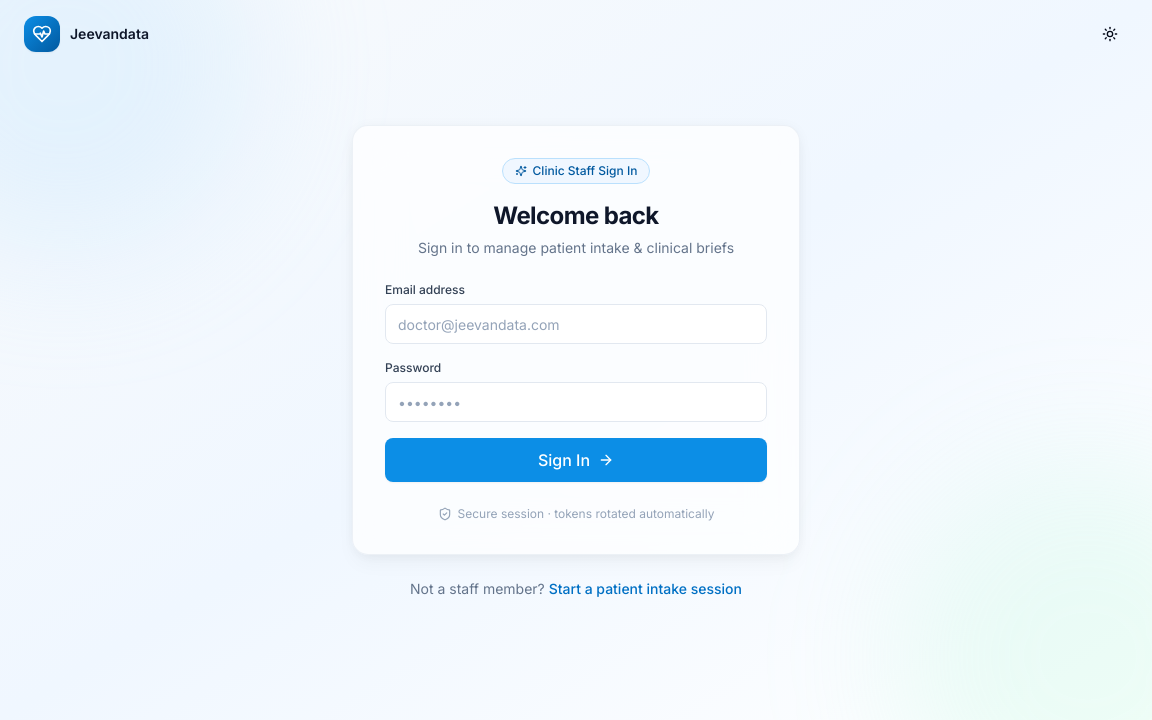
Test: LoginPage › should show validation errors for empty/invalid input
Type "not-an-email" into the field labelled "Email address" at (576, 324), box [385,304,767,344]
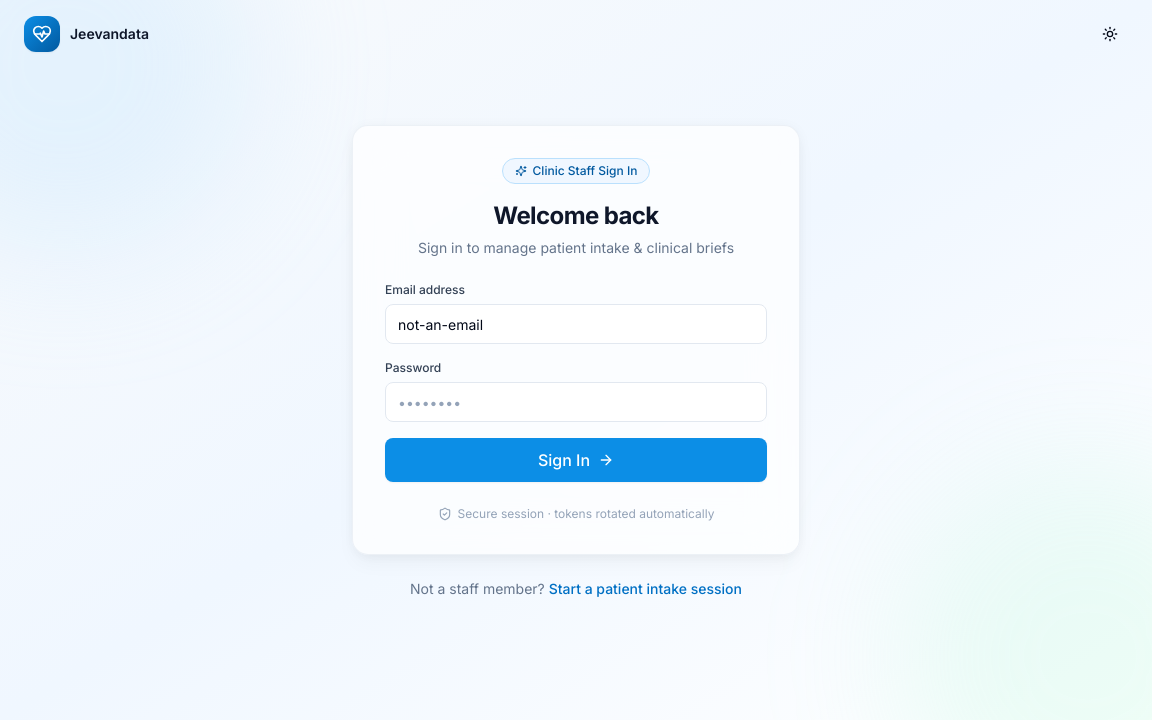
Type "short" into the password field labelled "Password" at (576, 402), box [385,382,767,422]
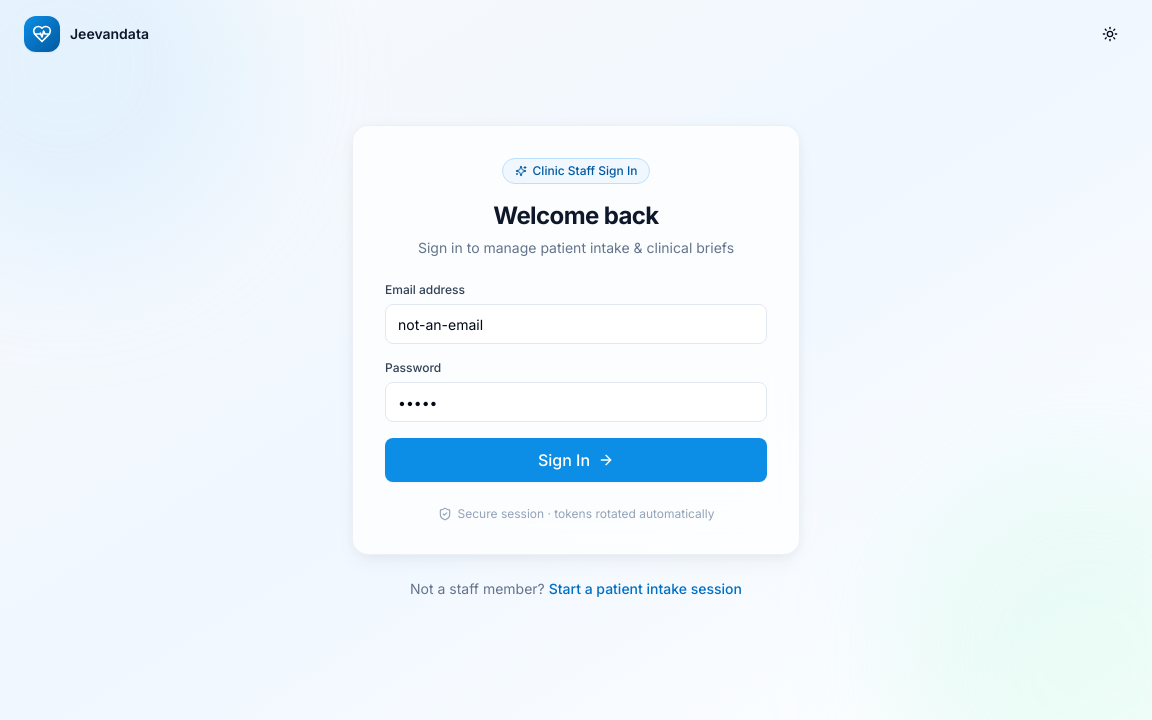
Click the button "Sign In" at (576, 460), box [385,438,767,482]
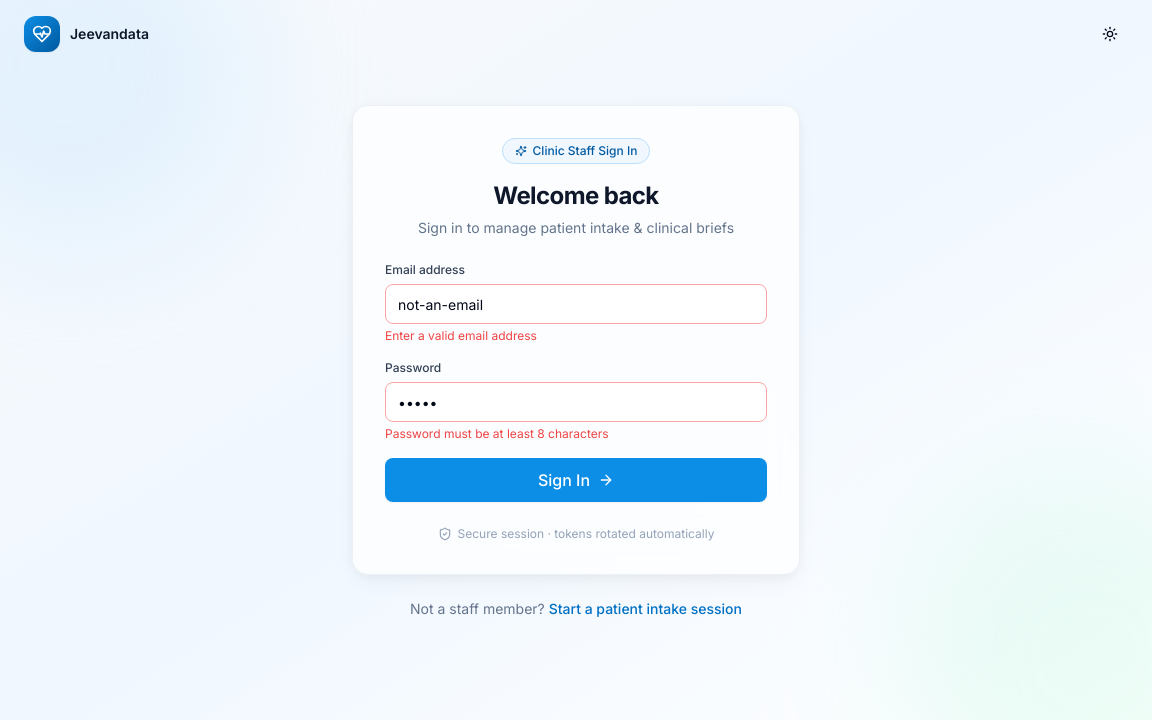
Expected: the text "Enter a valid email address" is shown, [385,328,537,343]
Expected: the text "Password must be at least 8 characters" is shown, [385,426,609,441]
